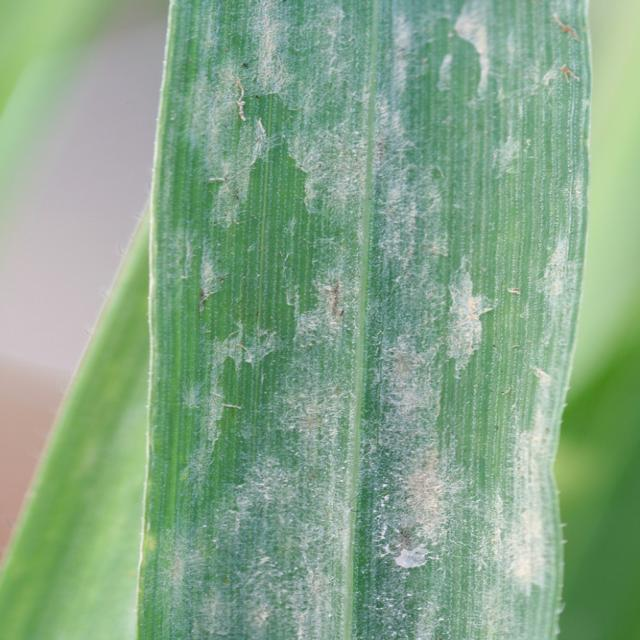wheat-powdery-mildew: (133, 0, 592, 640)
